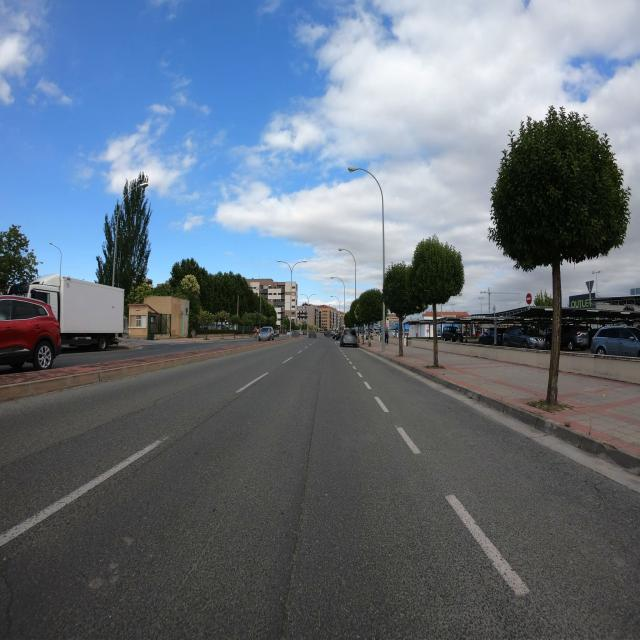car: (0, 292, 62, 376), (590, 326, 640, 360), (502, 327, 546, 351), (478, 326, 506, 346), (441, 325, 466, 343), (340, 327, 359, 348), (258, 326, 274, 342), (335, 328, 343, 340)
